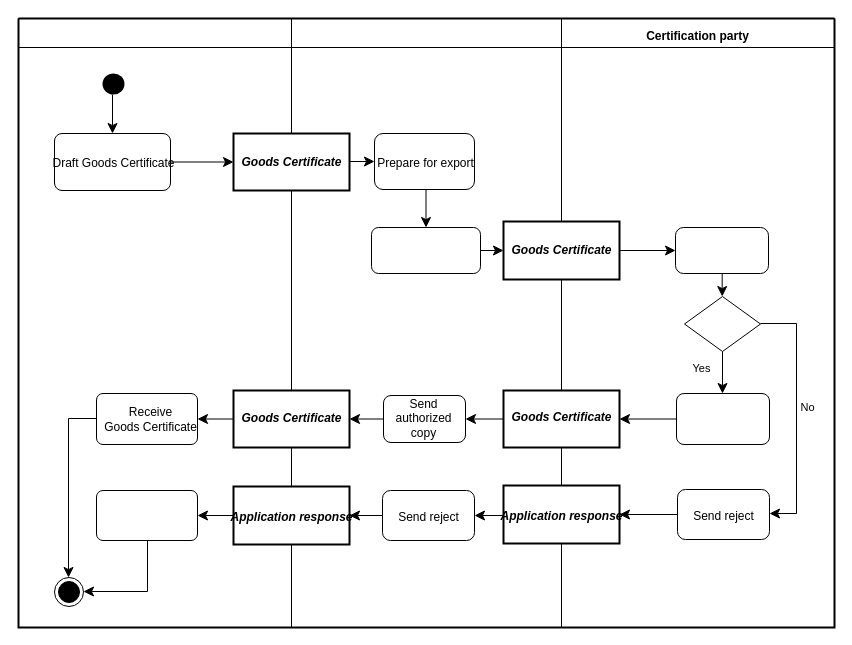
Some shapes in this 852 by 645 pixel diagram are drawn without their labels. Each missing label, with the box of its shape:
Apply stamps and signature: (676, 392, 770, 444)
Export party: (18, 18, 292, 628)
Issue Trade Certificates for export as bundle: (370, 226, 480, 274)
OK?: (684, 296, 760, 352)
Preparation party: (290, 18, 562, 628)
Receive reject: (96, 490, 198, 540)
Validate Trade Certificate: (674, 226, 768, 274)
